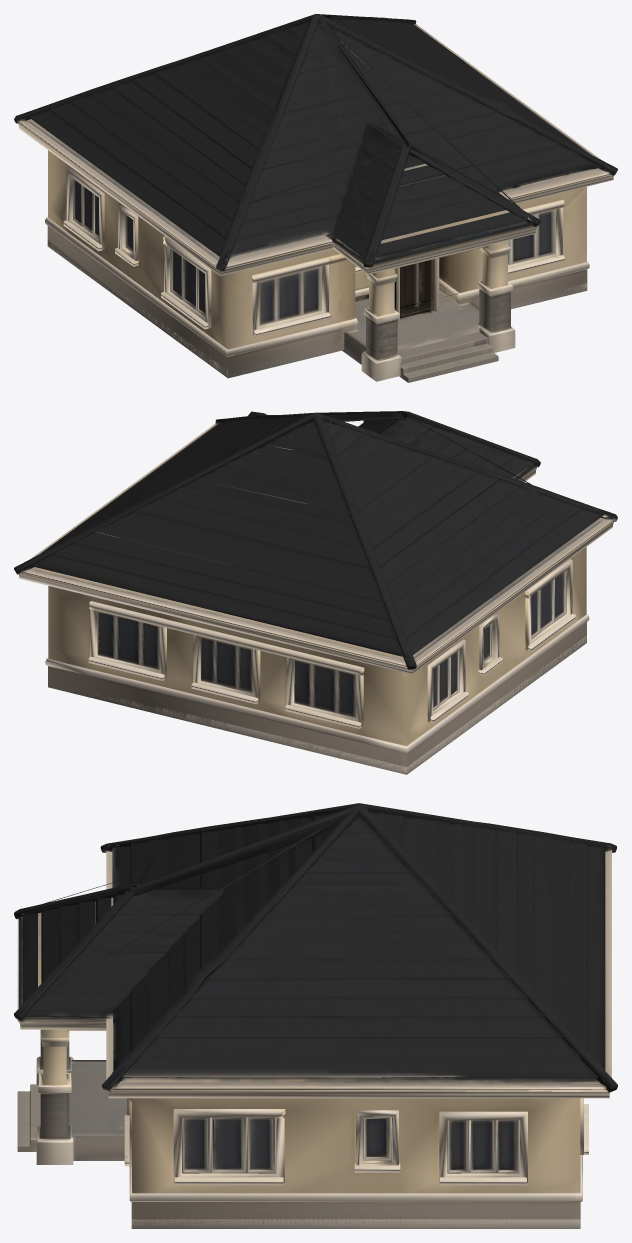
File: residential house 3d model.fbx
3 renders of one model, top to bottom at view 1: azimuth 30°, elevation 25°; view 2: azimuth 150°, elevation 25°; view 3: azimuth 270°, elevation 25°, orthographic. The views are drawn at different scales.
Parts seen in each view (by area): view 1: tripo_node_07d292f7; view 2: tripo_node_07d292f7; view 3: tripo_node_07d292f7.
Boxes of the visible parts, <box> form: tripo_node_07d292f7: <box>14,14,617,382</box>; tripo_node_07d292f7: <box>14,411,617,774</box>; tripo_node_07d292f7: <box>14,803,617,1228</box>.
Bounding box in the file's own units: 0.9565 × 0.5835 × 0.9995.
